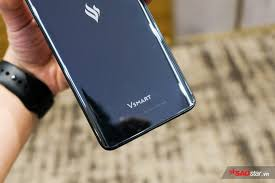vsmart: (22, 1, 198, 154)
